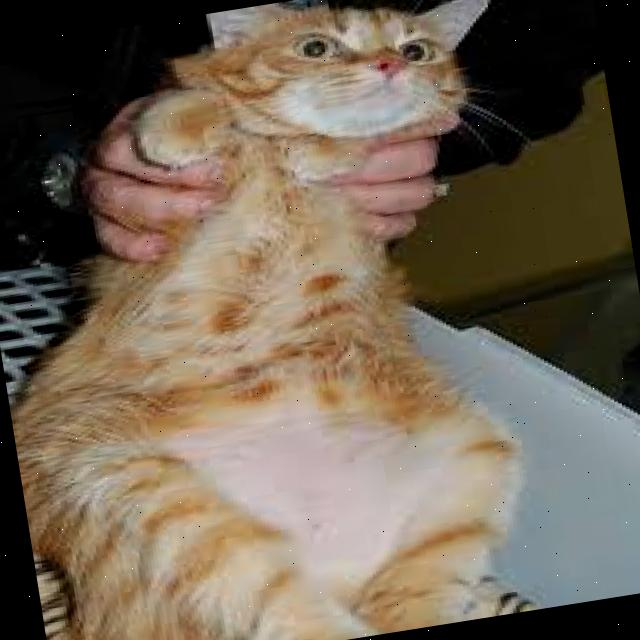cat-hairloss: (186, 402, 396, 564)
